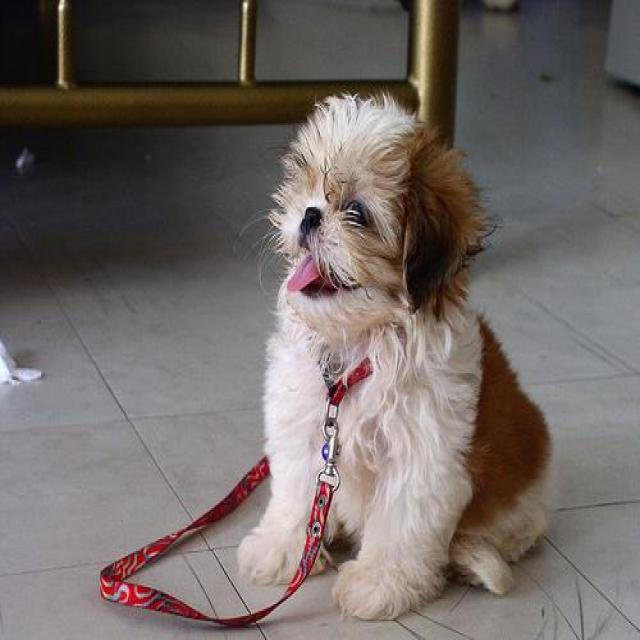sitting: (236, 90, 556, 630)
